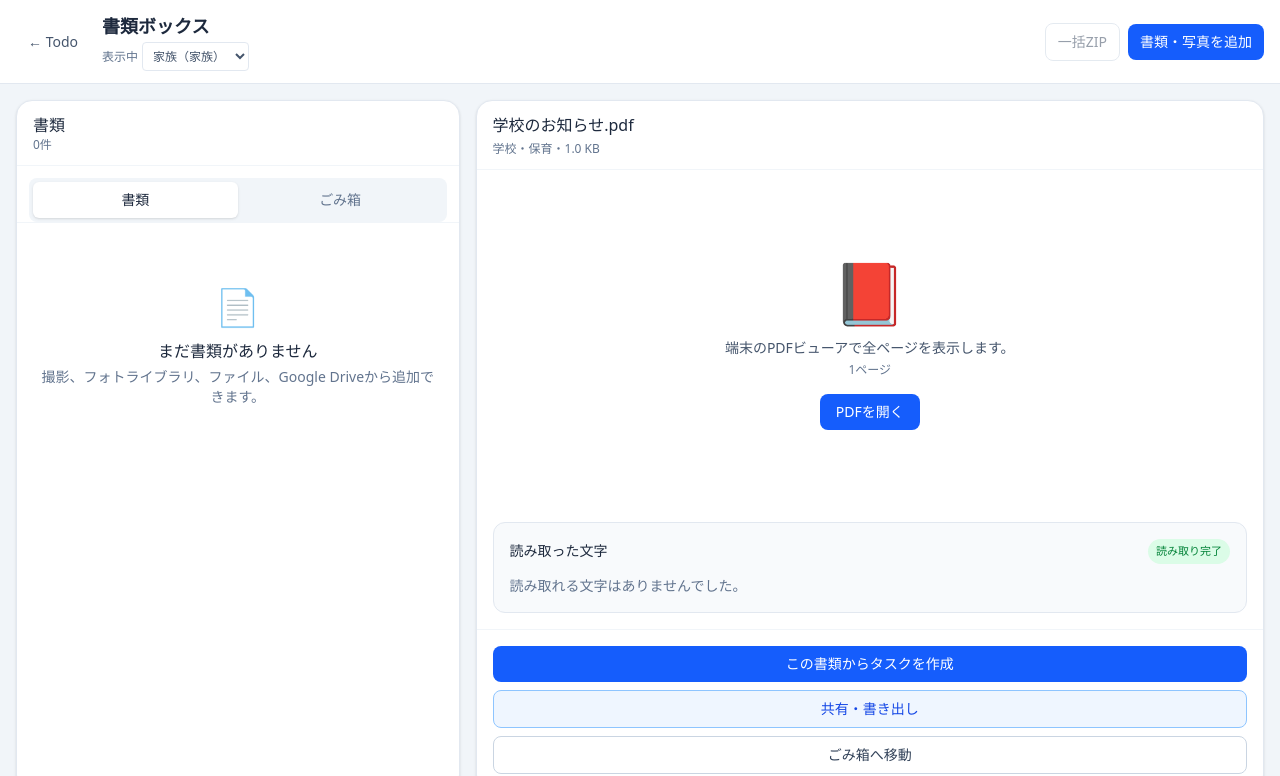
Scenario: DocumentsView › 書類詳細から原本を共有・書き出しする
Click the button "共有・書き出し" at (870, 708), box [492,690,1247,728]
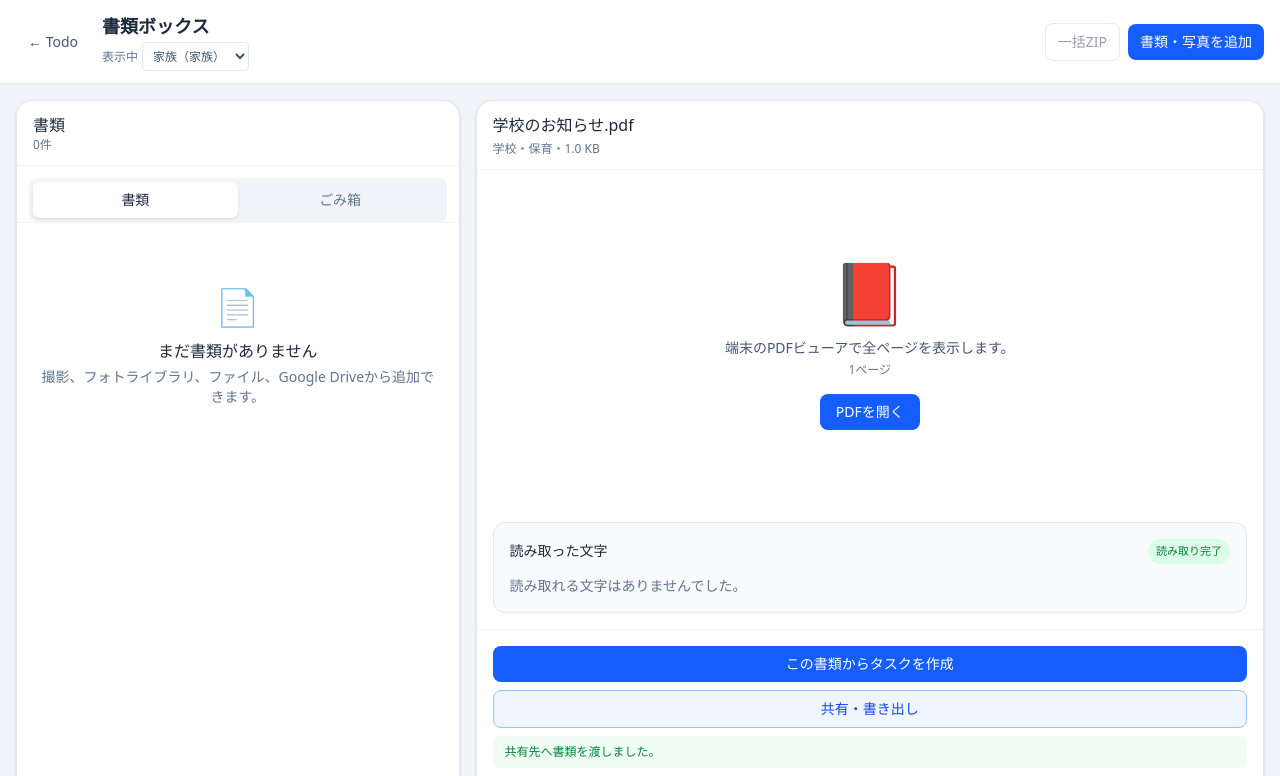
Expected: the text "共有先へ書類を渡しました。" is shown, [492,736,1247,768]
